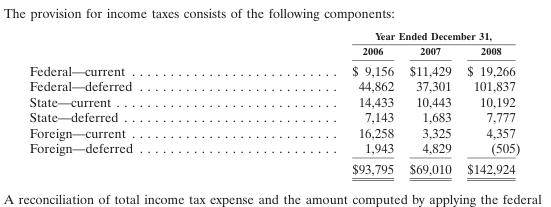table: (28, 29, 519, 175)
table column: (28, 29, 241, 175), (241, 29, 400, 175), (458, 29, 519, 175), (400, 29, 458, 175)
table column header: (28, 29, 519, 59)
table row: (28, 59, 519, 78), (28, 139, 519, 157), (28, 157, 519, 175), (28, 42, 519, 59), (28, 108, 519, 124), (28, 78, 519, 93), (28, 93, 519, 108), (28, 124, 519, 139), (28, 29, 519, 42)
table spanning cell: (241, 29, 519, 42)
